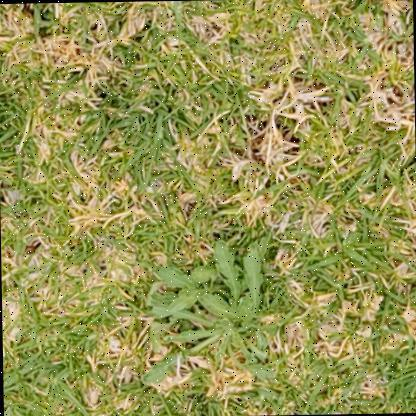Weeds: (139, 238, 275, 383)
